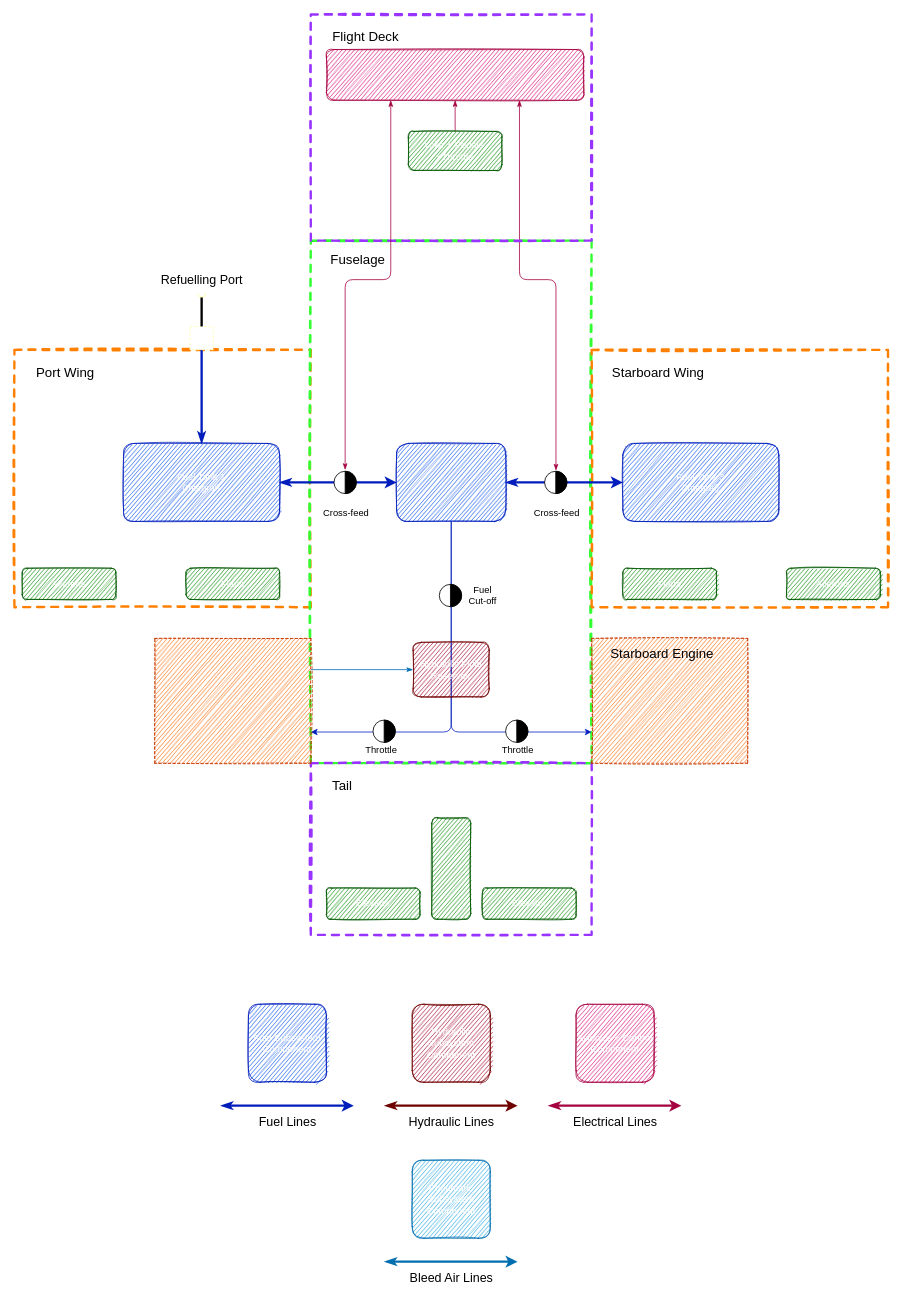
Some shapes in this 902 by 1299 pixel diagram are drawn without their labels. Each missing label, with the box of its shape:
Avionics Suite: (326, 49, 584, 100)
Fuel Tank 2 (Self-sealing): (396, 443, 506, 521)
Port Engine: (154, 638, 311, 763)
Rudder: (431, 817, 471, 919)
